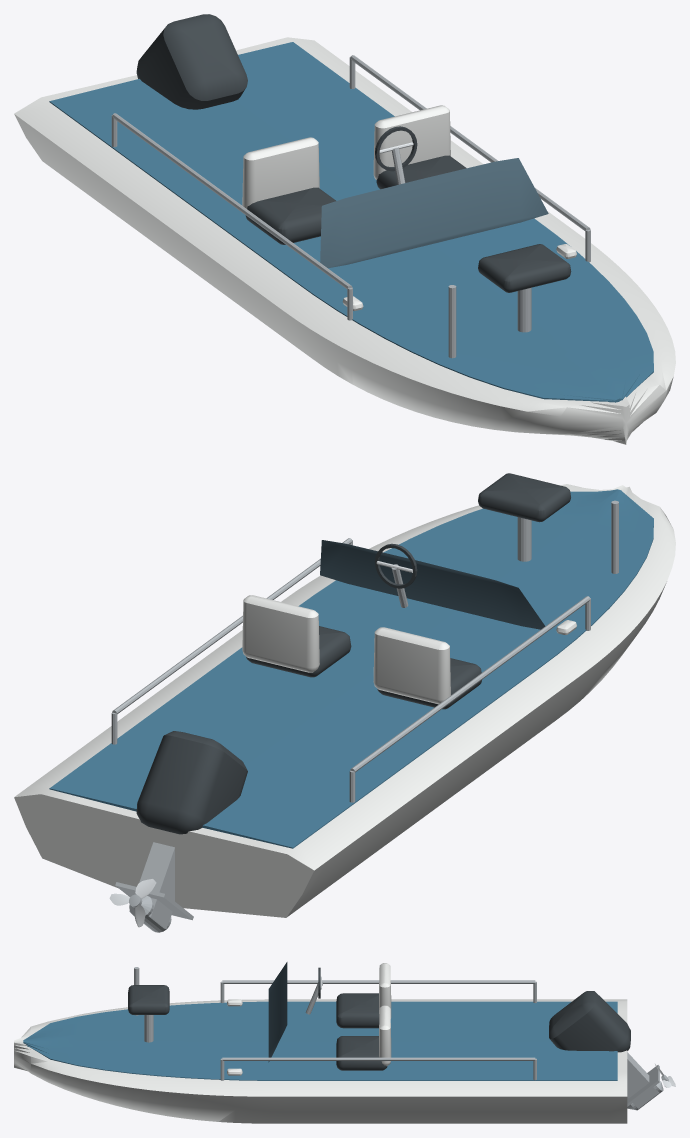
The model's file is powerboat-racing-and-launch-ramp-bass-boat-outboard-up-cfc89239__22311.glb.
3 renders of one model, top to bottom at view 1: azimuth 30°, elevation 25°; view 2: azimuth 150°, elevation 25°; view 3: azimuth 270°, elevation 25°, orthographic. The views are drawn at different scales.
Visible parts, largest first — view 1: bass-boat-outboard-up, engine-0-tilt; view 2: bass-boat-outboard-up, engine-0-tilt (×2), engine-0-propeller; view 3: bass-boat-outboard-up, engine-0-tilt (×2).
Boxes of the visible parts, bbox=[...] form: bass-boat-outboard-up: bbox=[14, 37, 675, 444]; engine-0-tilt: bbox=[136, 14, 247, 109]; bass-boat-outboard-up: bbox=[14, 473, 675, 917]; engine-0-tilt (×2): bbox=[115, 731, 247, 932]; engine-0-propeller: bbox=[109, 879, 156, 927]; bass-boat-outboard-up: bbox=[14, 962, 627, 1123]; engine-0-tilt (×2): bbox=[549, 991, 663, 1110].
Bounding box in the file's own units: 2.21 × 1.49 × 6.37.
